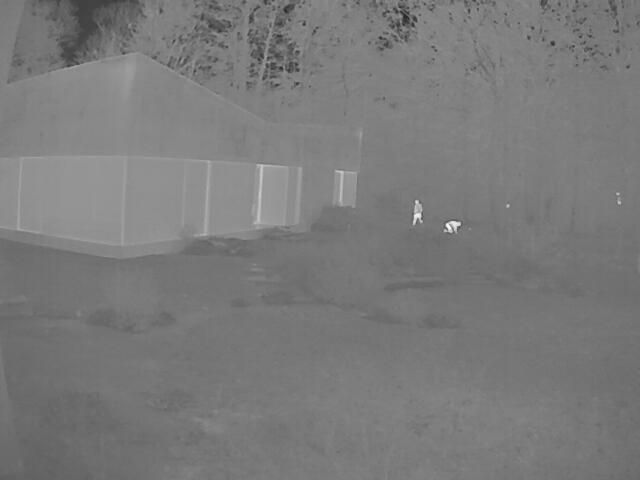person: (412, 199, 423, 227), (442, 219, 461, 234)
